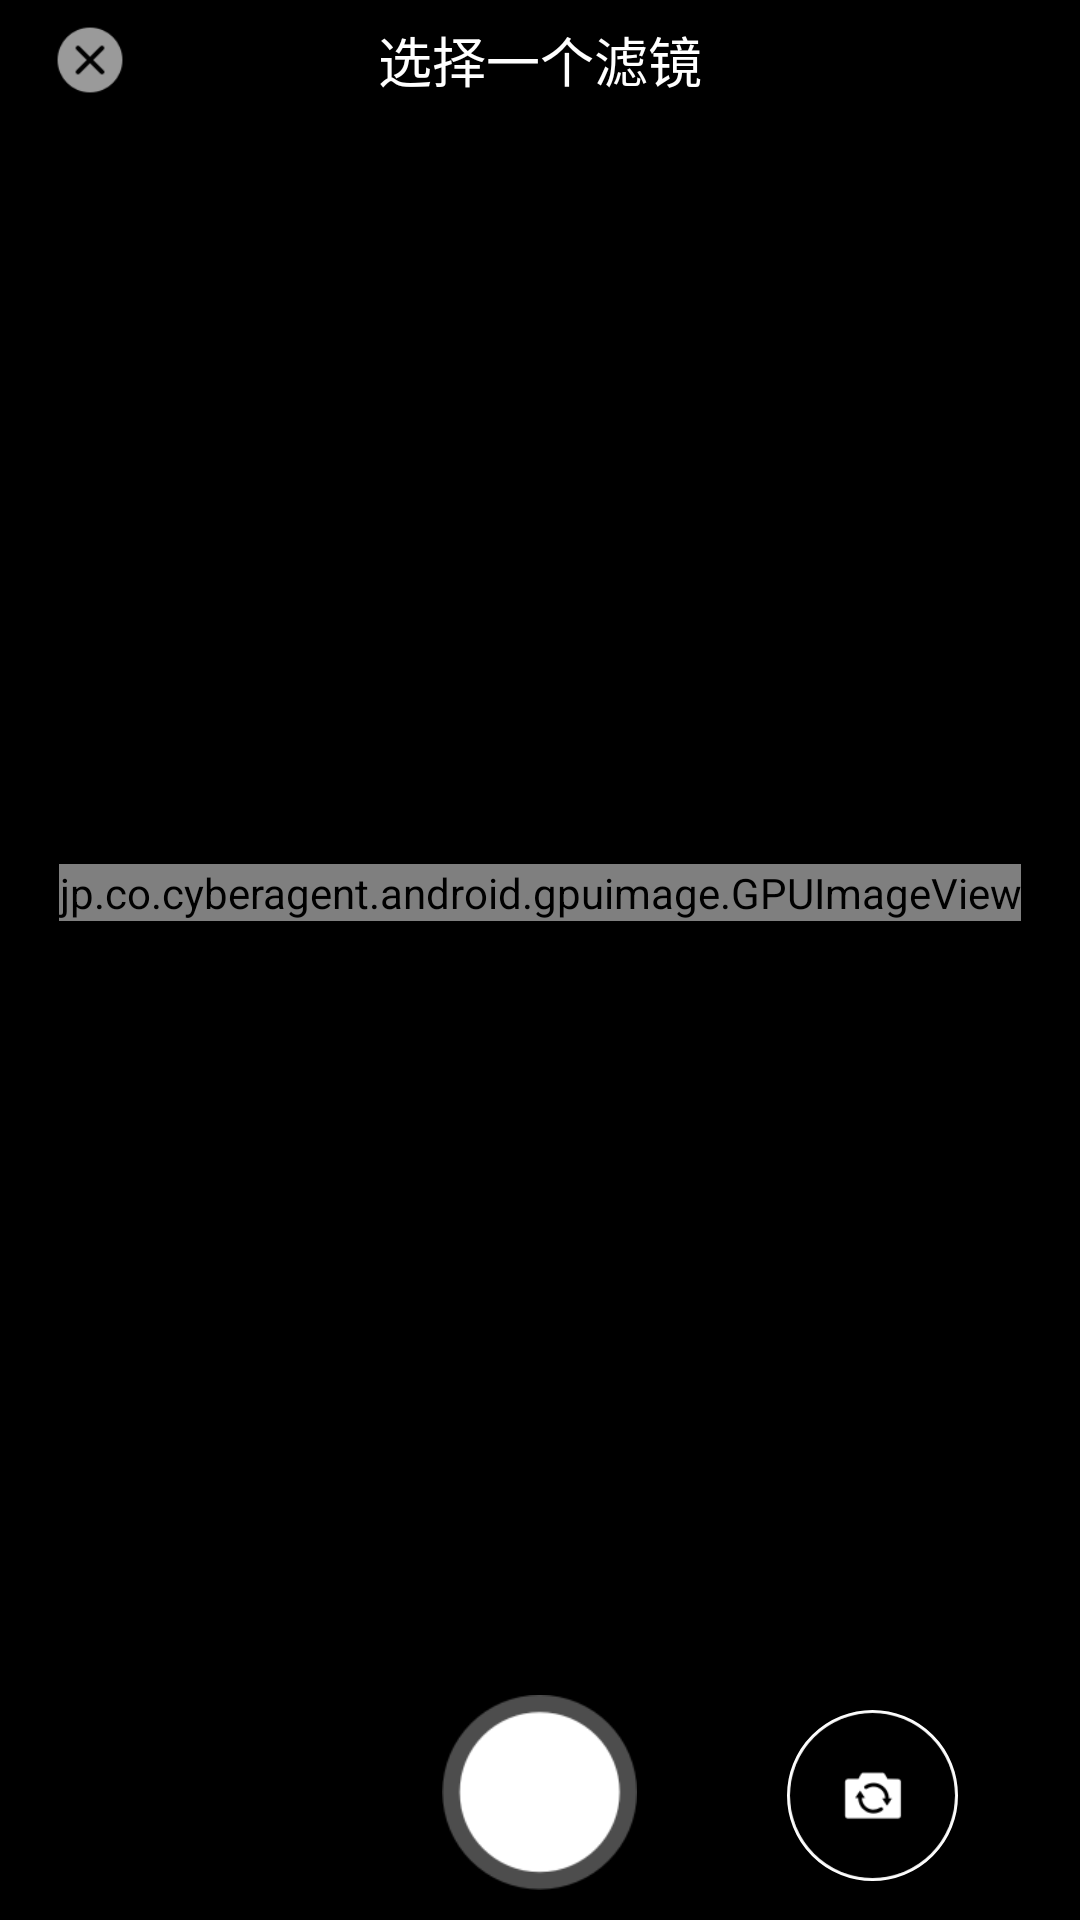

Where to tap for icons on this 1080w x 1920h app screen, as (x,y):
front back switcher: (872,1795)
shutter: (539,1792)
